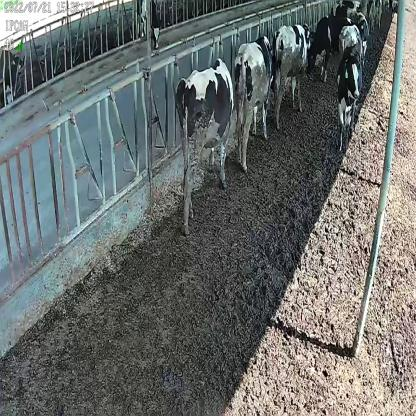cow: (176, 60, 235, 228), (233, 36, 275, 174), (270, 23, 312, 131), (336, 45, 363, 151)
